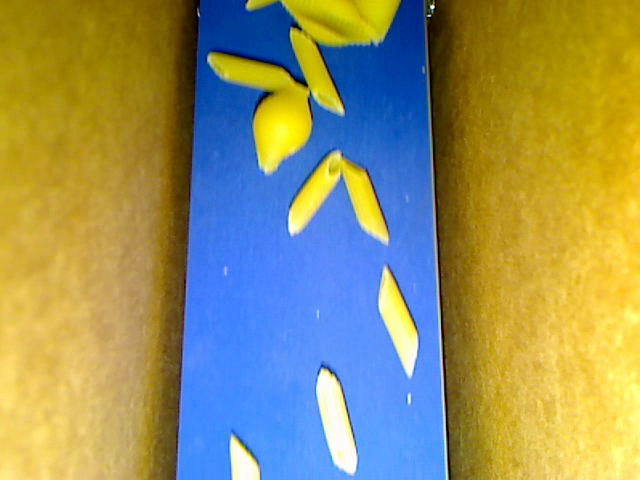penne: (289, 27, 344, 115), (287, 149, 341, 234), (378, 264, 418, 377), (316, 365, 357, 474), (340, 157, 387, 243), (207, 53, 295, 92), (230, 432, 259, 479), (245, 1, 281, 12)
shell: (252, 83, 312, 173), (280, 1, 376, 47)
